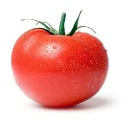tomato: (12, 27, 109, 108)
